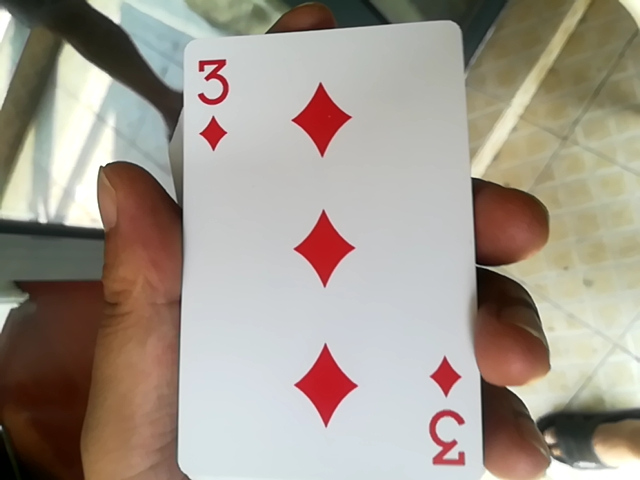fk 3: (170, 26, 481, 475)
